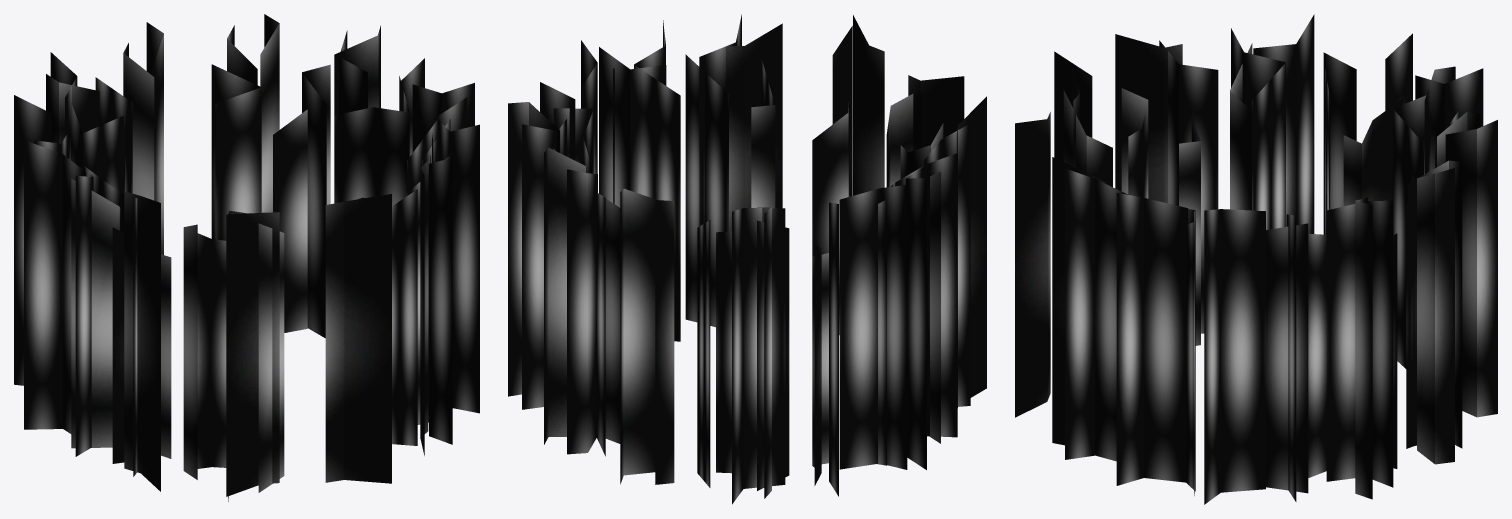
Rendered from vfx_kurp_0014.dae.
3 views of the same model, side by side, from view 1: azimuth 30°, elevation 25°; view 2: azimuth 150°, elevation 25°; view 3: azimuth 270°, elevation 25° (orthographic).
Visible parts, largest first — view 1: vfx_kurp_0014; view 2: vfx_kurp_0014; view 3: vfx_kurp_0014.
Boxes of the visible parts, bbox=[...] form: vfx_kurp_0014: bbox=[14, 14, 479, 501]; vfx_kurp_0014: bbox=[508, 14, 986, 504]; vfx_kurp_0014: bbox=[1015, 14, 1497, 504].
Size of the model in its own units: 8.13 by 8.43 by 5.69.
1 material, 1 textured.
